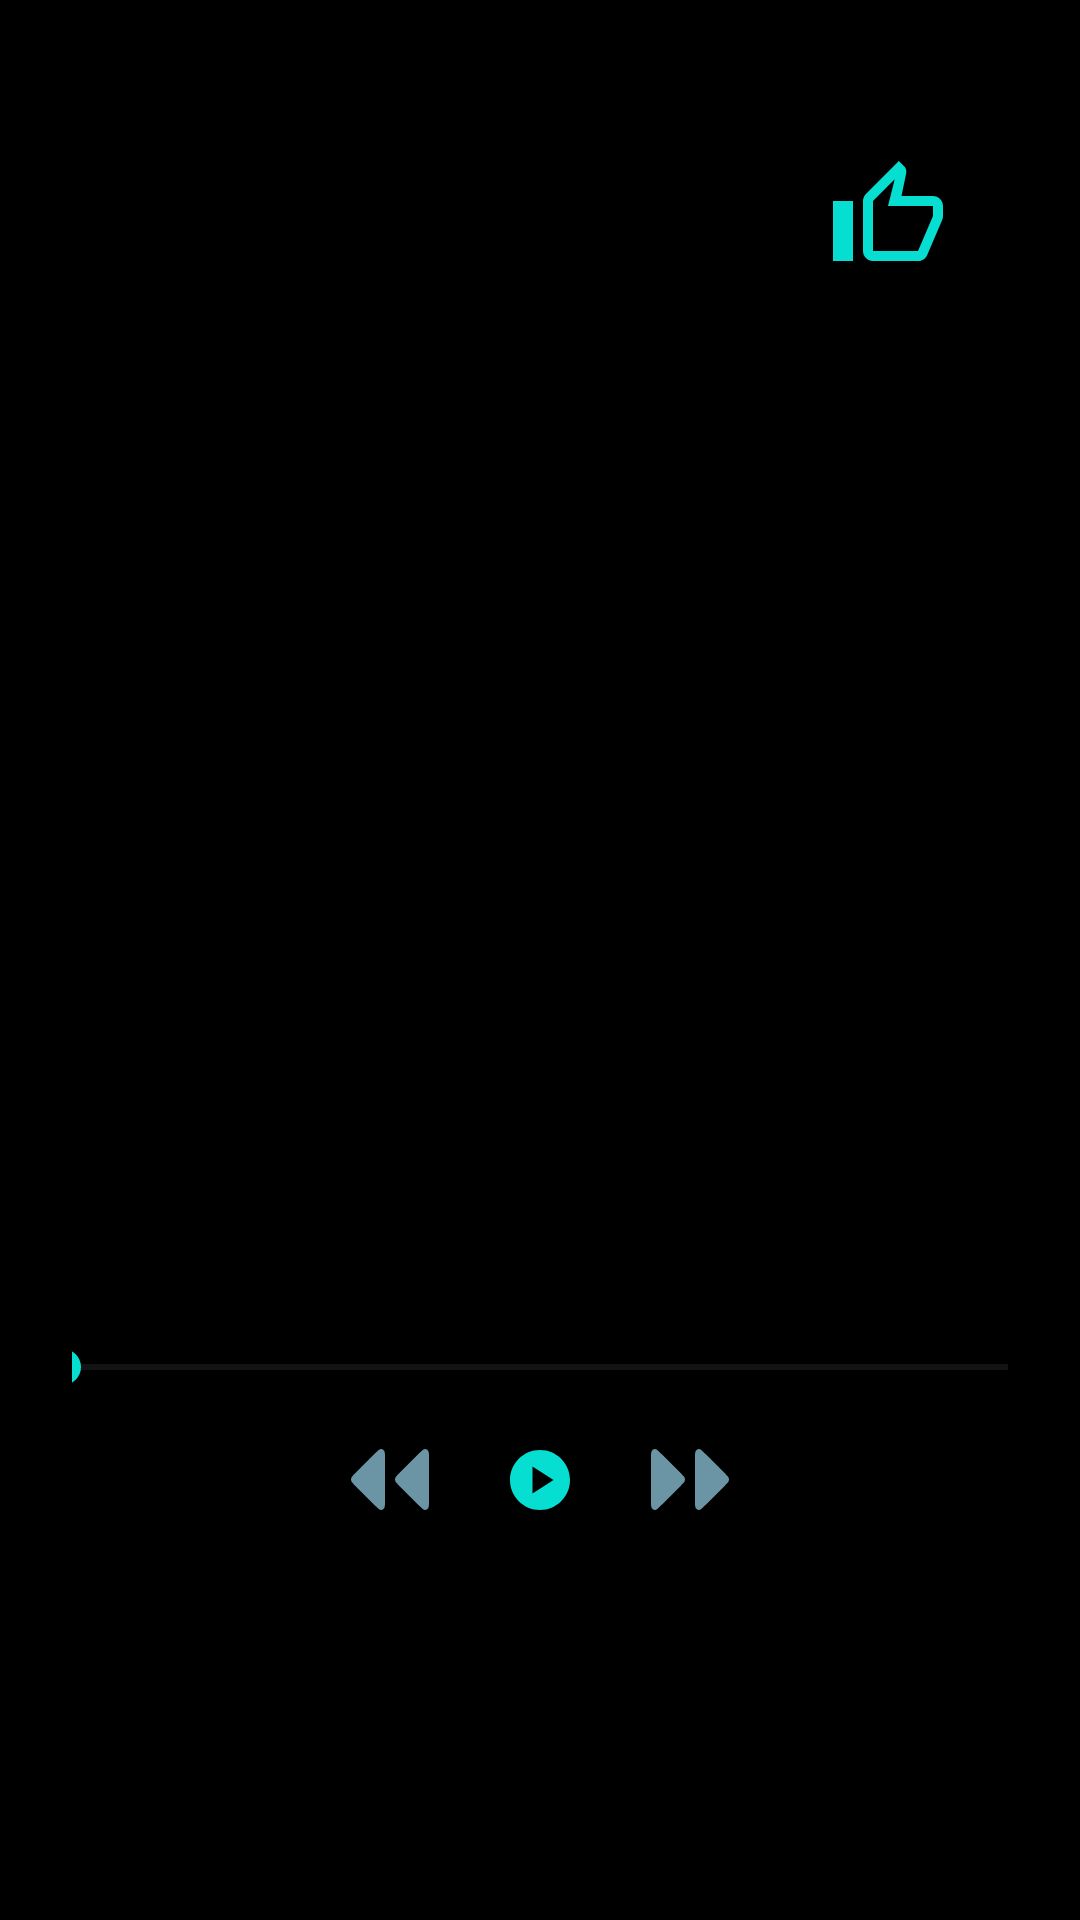

Where icons sit on this 1080*1920 app screen, as (x1, y1, x2, y2):
Like: (833, 161, 943, 261)
Next track: (651, 1449, 729, 1510)
Play/Pause: (510, 1450, 570, 1510)
Previous track: (351, 1449, 429, 1510)
